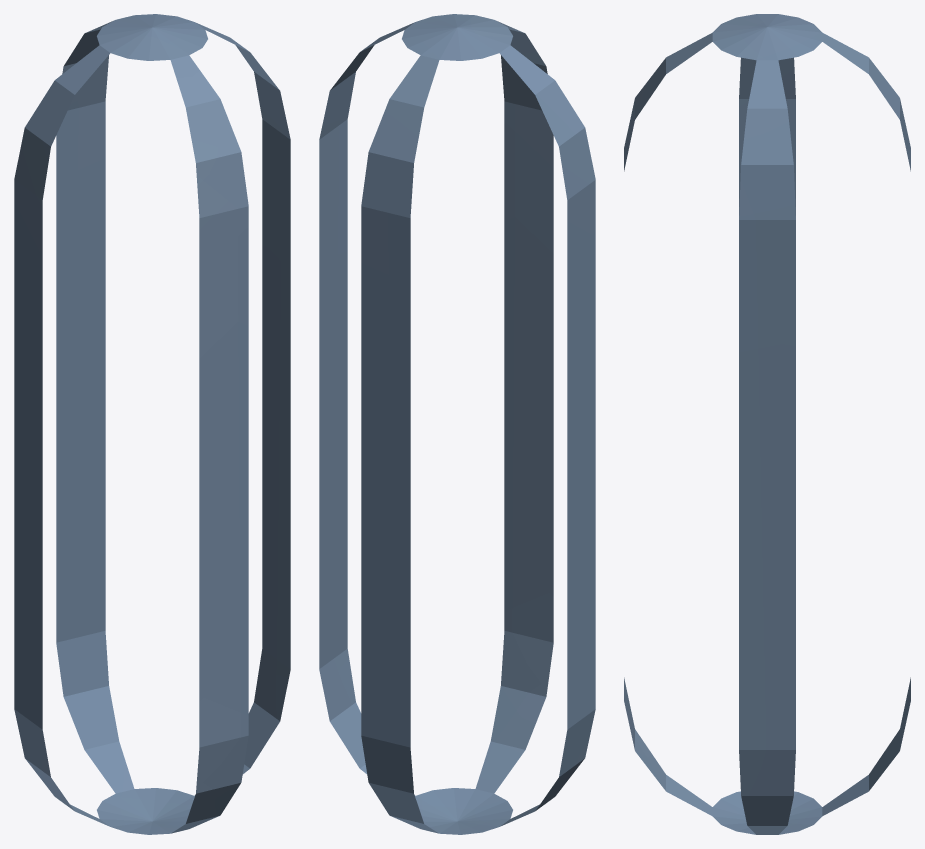
The model's file is player.obj.
3 renders of one model, left to right at view 1: azimuth 30°, elevation 25°; view 2: azimuth 150°, elevation 25°; view 3: azimuth 270°, elevation 25°, orthographic.
Visible parts, largest first — view 1: Sphere; view 2: Sphere; view 3: Sphere.
Boxes of the visible parts, x1,y1,x2,y2 form: Sphere: (14,14,290,834); Sphere: (319,14,595,834); Sphere: (624,14,910,834).
Bounding box in the file's own units: 0.5885 × 1.8 × 0.5885.
1 material, 1 textured.
